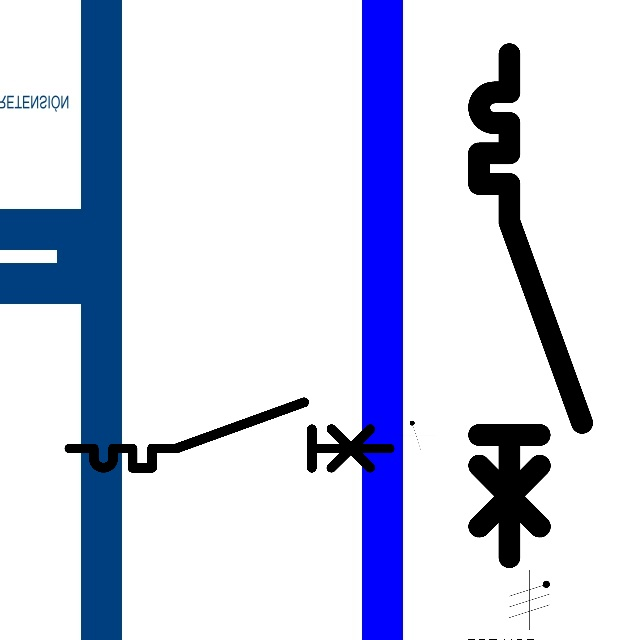interruptor_termomagnetico: (466, 41, 595, 570), (61, 394, 398, 476)
